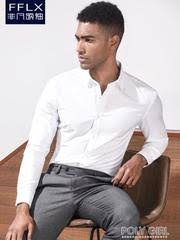F_shirt: (15, 62, 166, 202)
